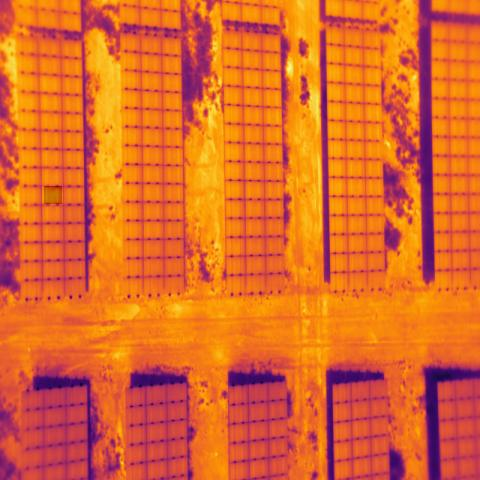fault: (44, 186, 62, 204)
